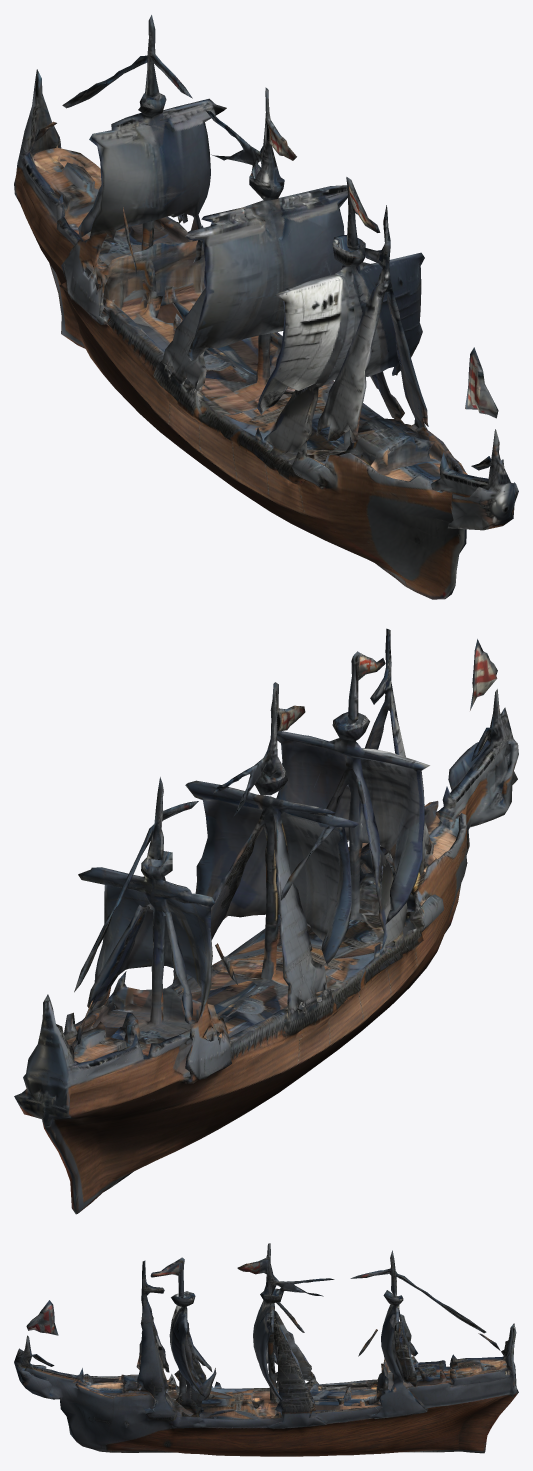
File: Destroyer.fbx
The picture shows the model from 3 angles, top to bottom: view 1: azimuth 30°, elevation 25°; view 2: azimuth 150°, elevation 25°; view 3: azimuth 270°, elevation 25°; orthographic projection. The views are drawn at different scales.
Visible parts, largest first — view 1: Mesh_0; view 2: Mesh_0; view 3: Mesh_0.
Boxes of the visible parts, <box> form: Mesh_0: <box>14,15,518,599</box>; Mesh_0: <box>14,628,518,1214</box>; Mesh_0: <box>14,1243,518,1456</box>.
Size of the model in its own units: 42.39 by 92.08 by 201.
Materials: 1 (1 with a texture image).
